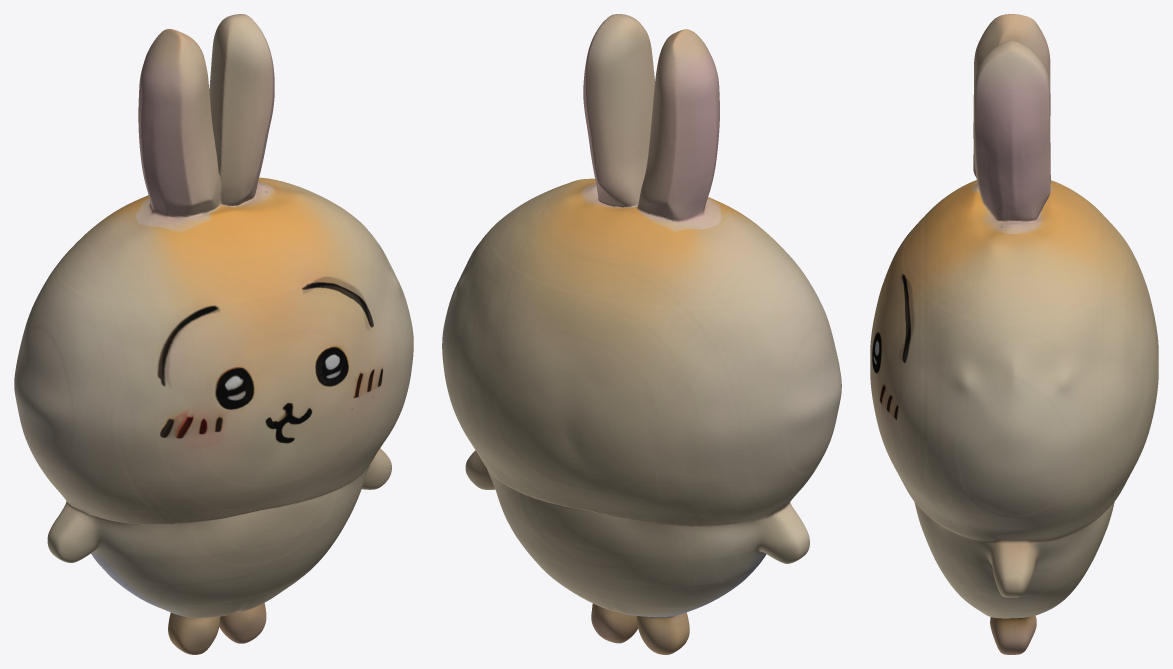
File: bunny-avatar.glb
3 renders of one model, left to right at view 1: azimuth 30°, elevation 25°; view 2: azimuth 150°, elevation 25°; view 3: azimuth 270°, elevation 25°, orthographic. The views are drawn at different scales.
Visible parts, largest first — view 1: tripo_node_d1b75e58-ea76-4ba9-83e7-e0340eaf686a; view 2: tripo_node_d1b75e58-ea76-4ba9-83e7-e0340eaf686a; view 3: tripo_node_d1b75e58-ea76-4ba9-83e7-e0340eaf686a.
Boxes of the visible parts, left/top/right/bottom form: tripo_node_d1b75e58-ea76-4ba9-83e7-e0340eaf686a: left=14, top=14, right=413, bottom=654; tripo_node_d1b75e58-ea76-4ba9-83e7-e0340eaf686a: left=442, top=14, right=841, bottom=654; tripo_node_d1b75e58-ea76-4ba9-83e7-e0340eaf686a: left=870, top=14, right=1158, bottom=654.
Bounding box in the file's own units: 0.6248 × 1 × 0.4295.
1 material, 1 textured.
